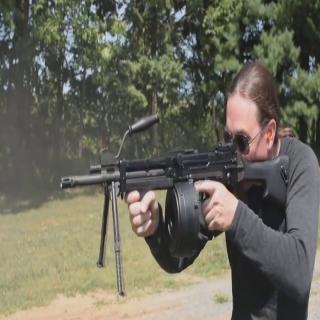gun: (54, 112, 294, 301)
